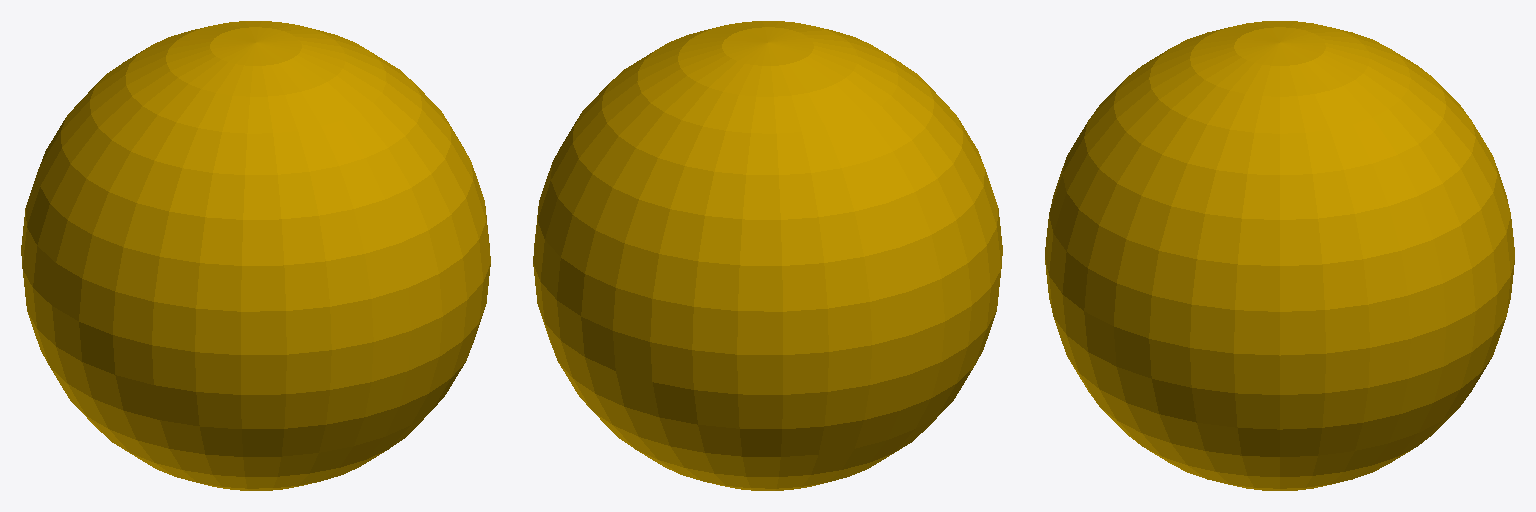
Rendered from Sun.obj.
3 views of the same model, side by side, from view 1: azimuth 30°, elevation 25°; view 2: azimuth 150°, elevation 25°; view 3: azimuth 270°, elevation 25° (orthographic).
Parts seen in each view (by area): view 1: Sphere; view 2: Sphere; view 3: Sphere.
Part boxes in pixels (left/top/right/bottom): Sphere: left=21, top=21, right=490, bottom=490; Sphere: left=533, top=21, right=1002, bottom=490; Sphere: left=1045, top=21, right=1514, bottom=490.
Size of the model in its own units: 2 by 2 by 2.